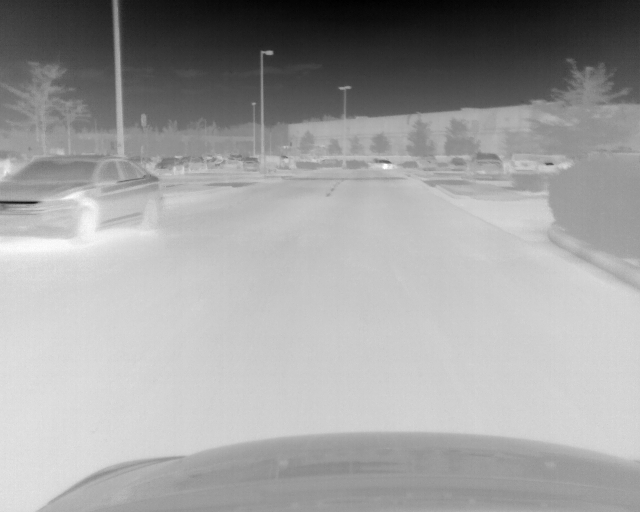car: (1, 153, 164, 249), (471, 153, 503, 179), (508, 152, 537, 176), (157, 157, 186, 176), (241, 156, 260, 171), (417, 155, 436, 169), (448, 157, 467, 171), (376, 158, 394, 169)
